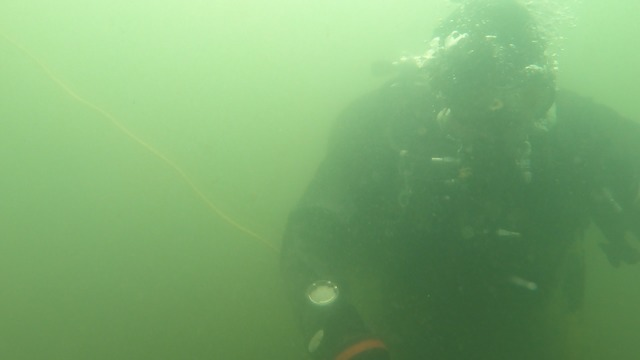Diver: (267, 1, 638, 359)
Head: (431, 3, 563, 192)
